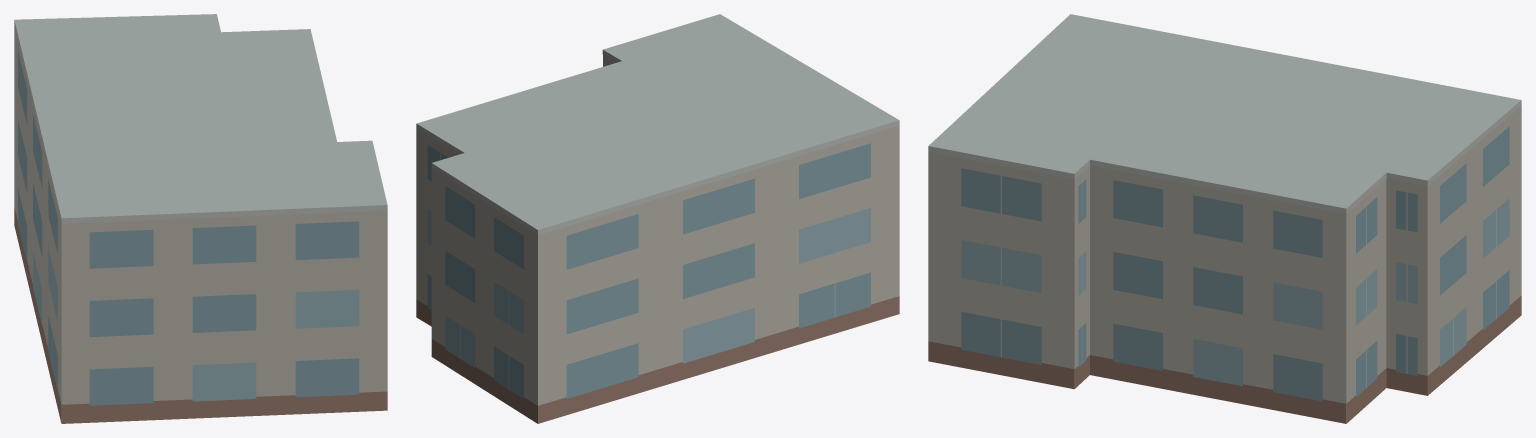
Rendered from survey-upis-32801170.glb.
The picture shows the model from 3 angles, left to right: view 1: azimuth 30°, elevation 25°; view 2: azimuth 150°, elevation 25°; view 3: azimuth 270°, elevation 25°; orthographic projection. The views are drawn at different scales.
Parts seen in each view (by area): view 1: survey-upis-32801170.tmp; view 2: survey-upis-32801170.tmp; view 3: survey-upis-32801170.tmp.
Boxes of the visible parts, x1=… form: survey-upis-32801170.tmp: x1=14, y1=14, x2=387, y2=423; survey-upis-32801170.tmp: x1=416, y1=14, x2=899, y2=423; survey-upis-32801170.tmp: x1=928, y1=14, x2=1521, y2=423.
Size of the model in its own units: 17.75 by 9.15 by 22.86.
